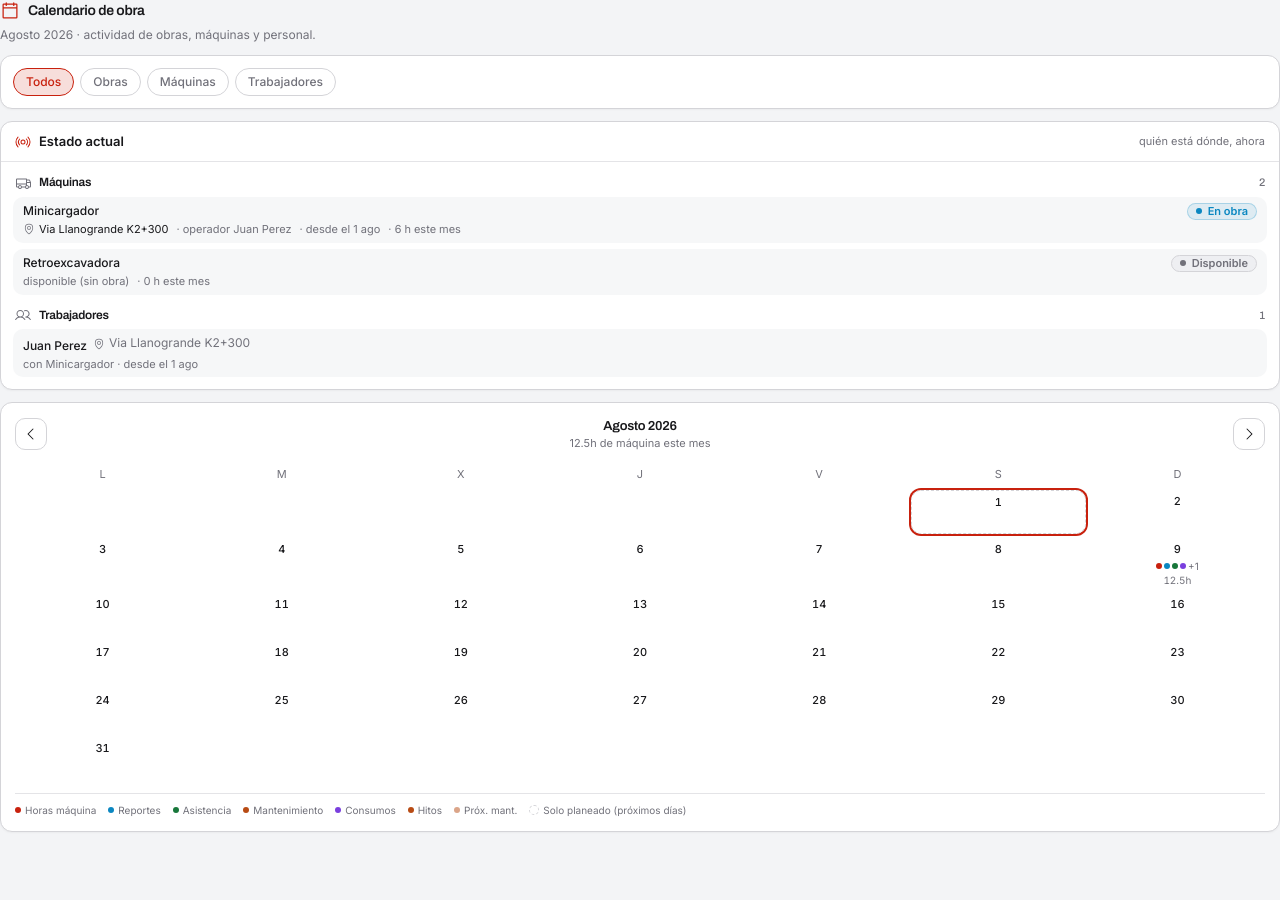
Scenario: CalendarioObra — calendario de obra (/calendario) › el conmutador de vista (Trabajadores) oculta las secciones de máquinas y muestra su select
Click the button named "2 horas máquina": (1177, 563) [1090,538,1265,589]
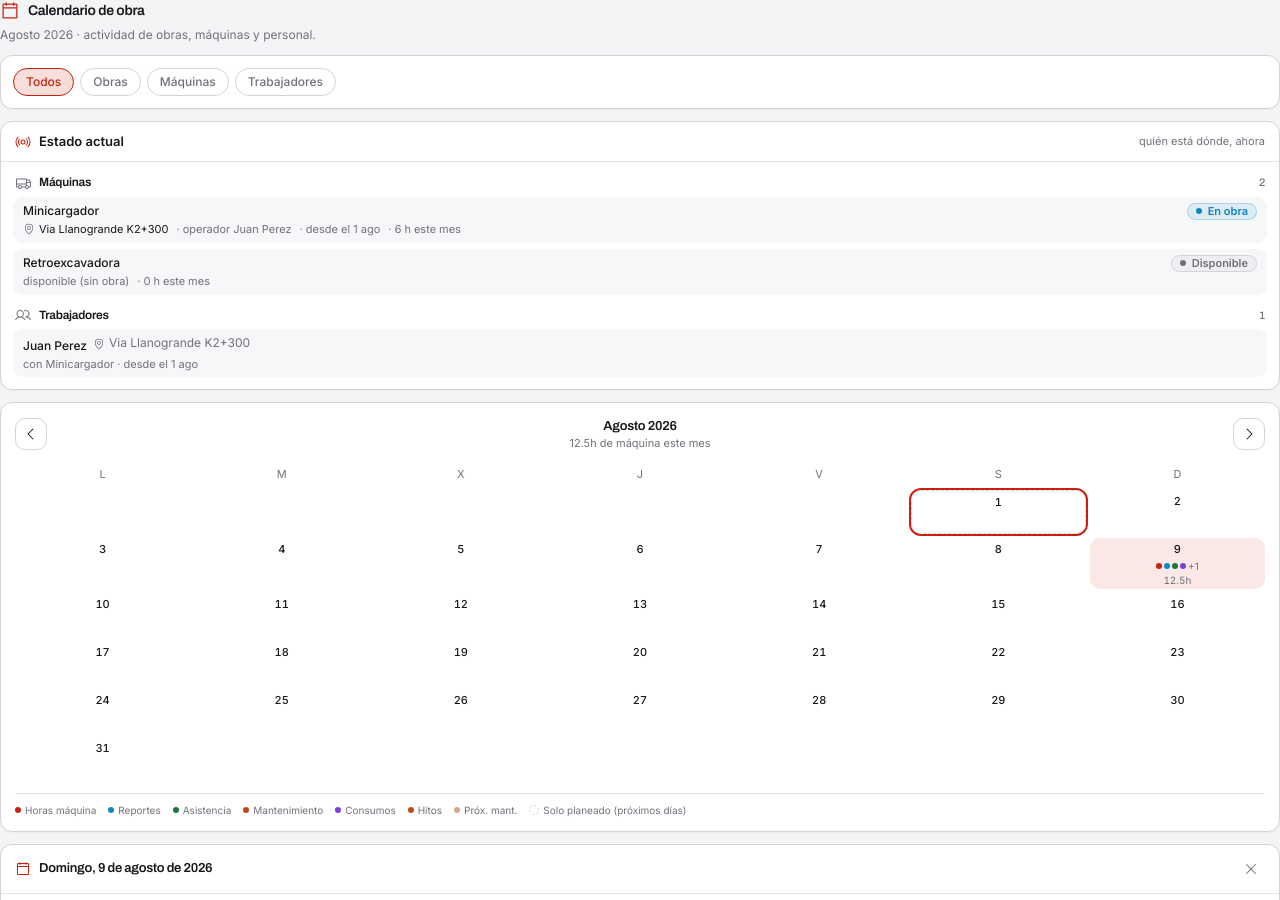
Click the button "Trabajadores": (285, 82) [235,68,336,96]
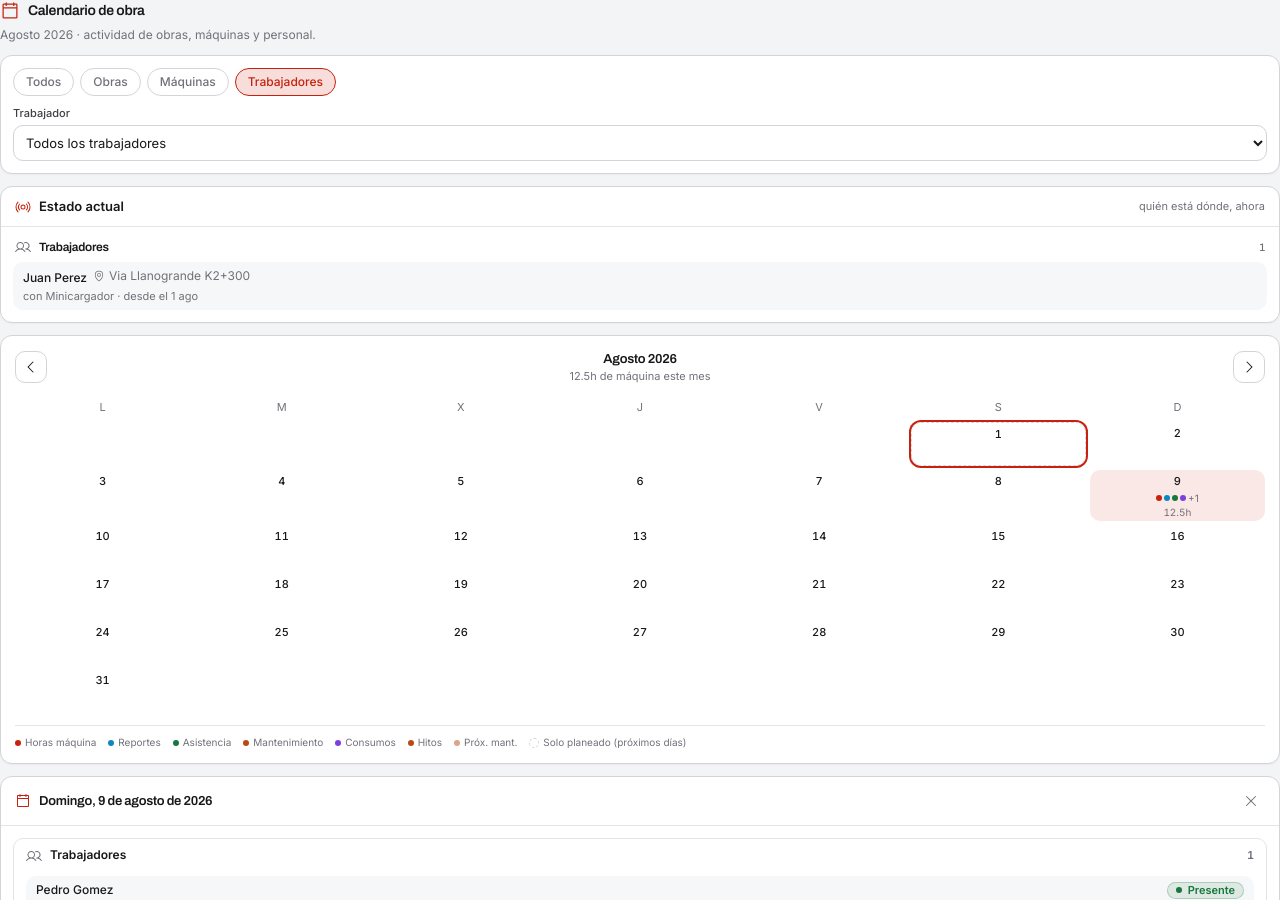
Result: the text "Pedro Gomez" is shown at [36,882,113,899]
Result: the dropdown labelled "Trabajador" is shown at [13,125,1267,161]
